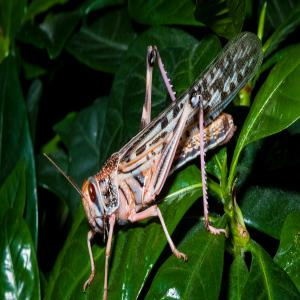locust: (83, 30, 263, 257)
